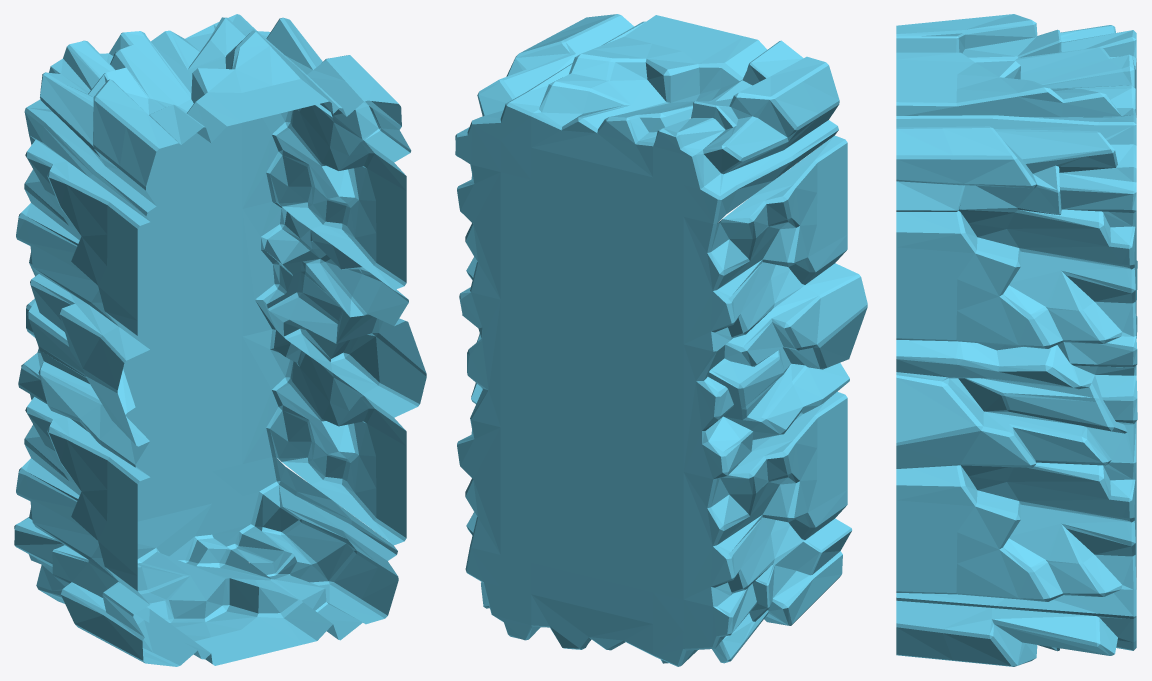
Rendered from m_dlc09_iceplatform_0.fbx.
3 views of the same model, side by side, from view 1: azimuth 30°, elevation 25°; view 2: azimuth 150°, elevation 25°; view 3: azimuth 270°, elevation 25° (orthographic).
Parts seen in each view (by area): view 1: m_dlc09_iceplatform_1_5; view 2: m_dlc09_iceplatform_1_5; view 3: m_dlc09_iceplatform_1_5.
Part boxes in pixels (x1,y1,x2,y2): m_dlc09_iceplatform_1_5: (14,14,426,666); m_dlc09_iceplatform_1_5: (455,14,867,666); m_dlc09_iceplatform_1_5: (896,14,1137,666).
Size of the model in its own units: 3.04 by 2.07 by 5.33.
1 material, 1 textured.
